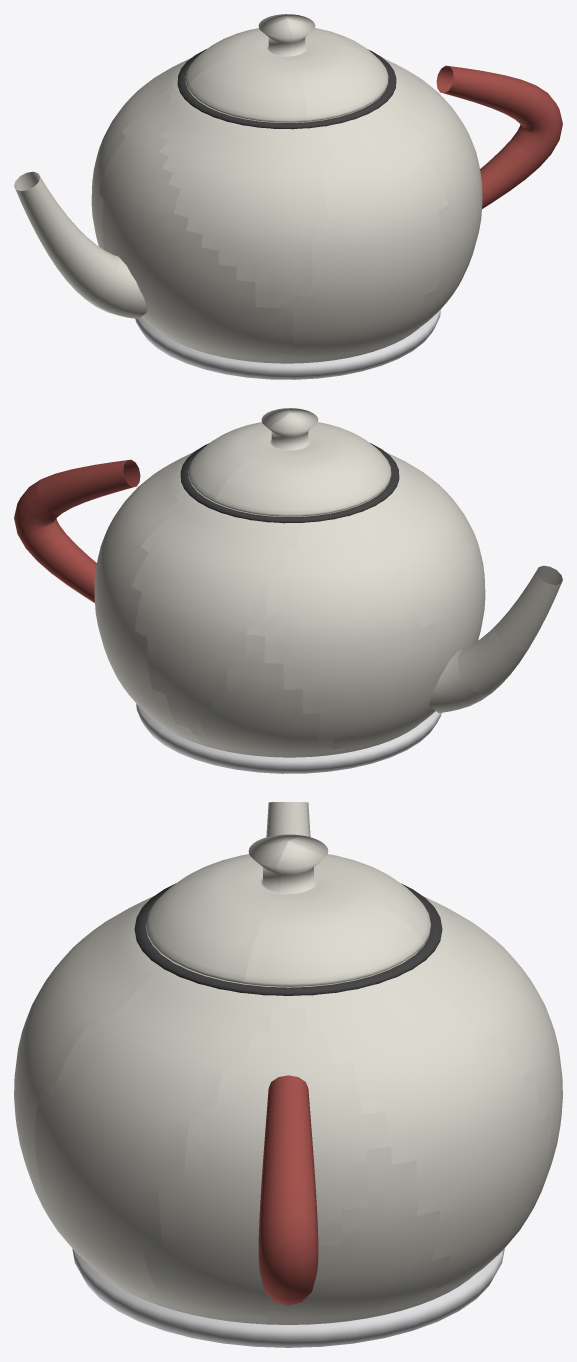
The model's file is kettle.glb.
3 views of the same model, one above another, from view 1: azimuth 30°, elevation 25°; view 2: azimuth 150°, elevation 25°; view 3: azimuth 270°, elevation 25° (orthographic). The views are drawn at different scales.
Parts seen in each view (by area): view 1: Frag_Body_10, Frag_Body_09, Frag_Body_04, Frag_Body_05, Frag_Lid_03, Frag_Lid_04, Kettle_Body, Kettle_Base, Frag_Handle_03, Frag_Spout_03, Frag_Body_08, Frag_Spout_02 (+7 smaller); view 2: Frag_Body_08, Frag_Body_07, Frag_Body_02, Frag_Body_04, Frag_Body_03, Frag_Lid_02, Kettle_Base, Frag_Body_09, Kettle_Body, Frag_Lid_03, Frag_Lid_01, Frag_Handle_03 (+7 smaller); view 3: Frag_Body_05, Frag_Body_02, Frag_Body_06, Frag_Body_01, Frag_Lid_01, Frag_Body_07, Frag_Body_10, Frag_Lid_04, Kettle_Base, Kettle_Body, Frag_Handle_02, Frag_Handle_03 (+5 smaller).
Part boxes in pixels (x1=…): Frag_Body_10: x1=276, y1=96, x2=448, y2=363; Frag_Body_09: x1=159, y1=80, x2=333, y2=307; Frag_Body_04: x1=98, y1=82, x2=293, y2=363; Frag_Body_05: x1=381, y1=61, x2=482, y2=343; Frag_Lid_03: x1=187, y1=19, x2=308, y2=122; Frag_Lid_04: x1=287, y1=19, x2=388, y2=121; Kettle_Body: x1=102, y1=58, x2=443, y2=363; Kettle_Base: x1=135, y1=310, x2=440, y2=379; Frag_Handle_03: x1=436, y1=65, x2=539, y2=120; Frag_Spout_03: x1=14, y1=171, x2=80, y2=257; Frag_Body_08: x1=91, y1=64, x2=184, y2=336; Frag_Spout_02: x1=49, y1=229, x2=118, y2=300; Frag_Body_08: x1=246, y1=512, x2=444, y2=753; Frag_Body_07: x1=132, y1=484, x2=308, y2=738; Frag_Body_02: x1=94, y1=455, x2=204, y2=745; Frag_Body_04: x1=340, y1=517, x2=485, y2=717; Frag_Body_03: x1=194, y1=634, x2=344, y2=757; Frag_Lid_02: x1=214, y1=413, x2=357, y2=516; Kettle_Base: x1=136, y1=704, x2=441, y2=773; Frag_Body_09: x1=334, y1=452, x2=480, y2=557; Kettle_Body: x1=109, y1=455, x2=450, y2=751; Frag_Lid_03: x1=290, y1=412, x2=391, y2=504; Frag_Lid_01: x1=188, y1=411, x2=289, y2=501; Frag_Handle_03: x1=37, y1=459, x2=140, y2=514; Frag_Body_05: x1=35, y1=965, x2=288, y2=1304; Frag_Body_02: x1=288, y1=973, x2=551, y2=1299; Frag_Body_06: x1=141, y1=1008, x2=390, y2=1324; Frag_Body_01: x1=266, y1=1146, x2=451, y2=1324; Frag_Lid_01: x1=244, y1=841, x2=424, y2=986; Frag_Body_07: x1=377, y1=898, x2=562, y2=1147; Frag_Body_10: x1=14, y1=921, x2=178, y2=1214; Frag_Lid_04: x1=145, y1=841, x2=288, y2=983; Kettle_Base: x1=72, y1=1248, x2=504, y2=1347; Kettle_Body: x1=14, y1=907, x2=559, y2=1324; Frag_Handle_02: x1=258, y1=1190, x2=318, y2=1302; Frag_Handle_03: x1=260, y1=1075, x2=316, y2=1202.
Bounding box in the file's own units: 3.1 × 1.62 × 1.93.
